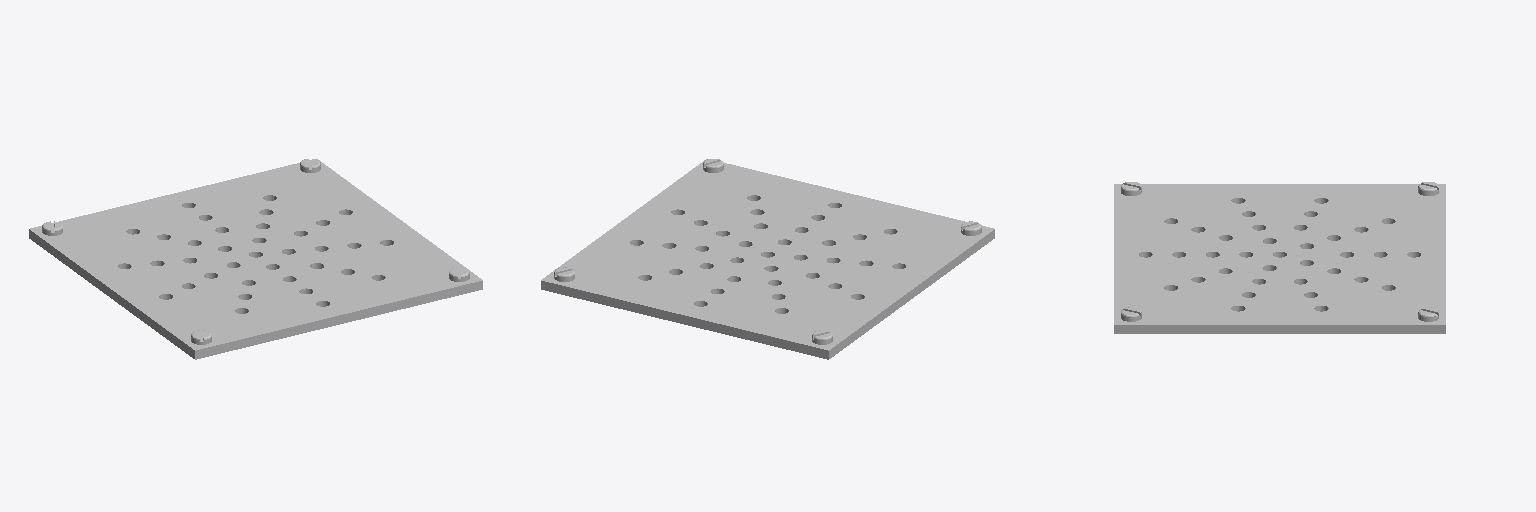
The model's file is partie-avant.obj.
3 views of the same model, side by side, from view 1: azimuth 30°, elevation 25°; view 2: azimuth 150°, elevation 25°; view 3: azimuth 270°, elevation 25° (orthographic).
Parts seen in each view (by area): view 1: Object.1, Object.3, Object.2; view 2: Object.1, Object.3, Object.2; view 3: Object.1, Object.3, Object.2.
Boxes of the visible parts, <box> form: Object.1: <box>30,159,482,350</box>; Object.3: <box>42,159,482,359</box>; Object.2: <box>29,161,460,358</box>; Object.1: <box>541,159,993,350</box>; Object.3: <box>541,159,981,359</box>; Object.2: <box>555,160,994,358</box>; Object.1: <box>1114,182,1445,324</box>; Object.3: <box>1114,182,1445,333</box>; Object.2: <box>1140,190,1437,316</box>.
Bounding box in the file's own units: 94.2 × 4.86 × 94.2.